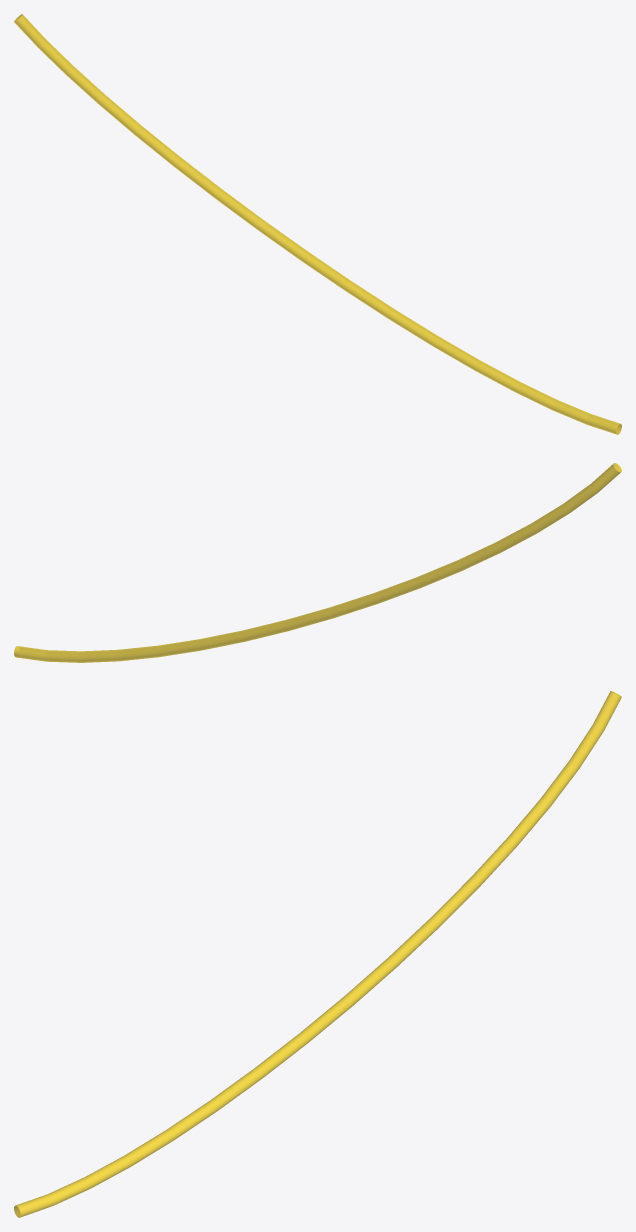
Rendered from Event_100608114_track_133.fbx.
3 views of the same model, one above another, from view 1: azimuth 30°, elevation 25°; view 2: azimuth 210°, elevation 25°; view 3: azimuth 270°, elevation 25° (orthographic). The views are drawn at different scales.
Visible parts, largest first — view 1: Model; view 2: Model; view 3: Model.
Boxes of the visible parts, x1,y1,x2,y2 form: Model: [14, 14, 621, 434]; Model: [14, 463, 621, 662]; Model: [14, 691, 621, 1217].
Size of the model in its own units: 1.36 by 1.16 by 1.86.
